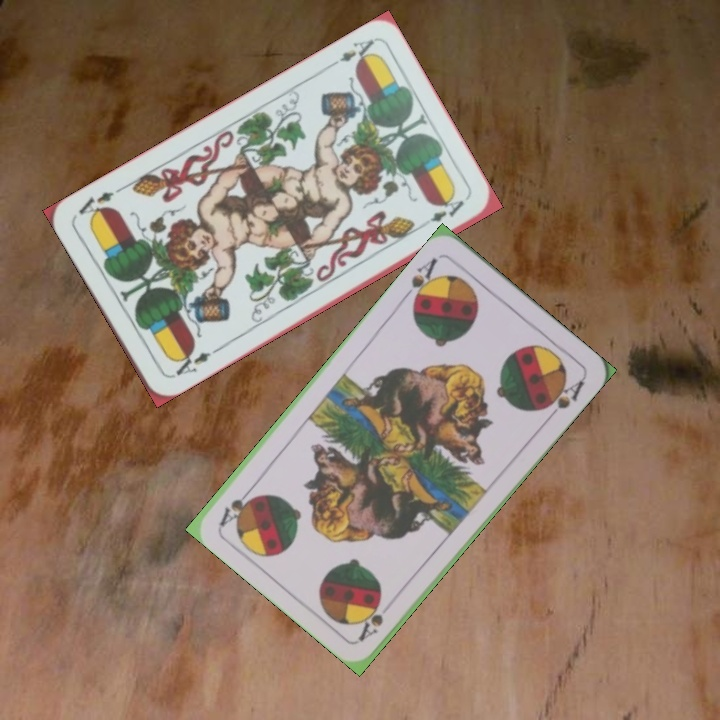EA: (323, 35, 379, 72), (167, 346, 213, 381)
SA: (399, 254, 442, 308), (354, 598, 386, 644)
